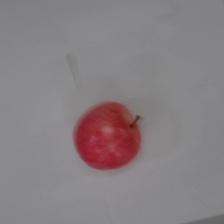red: (68, 86, 151, 172)
